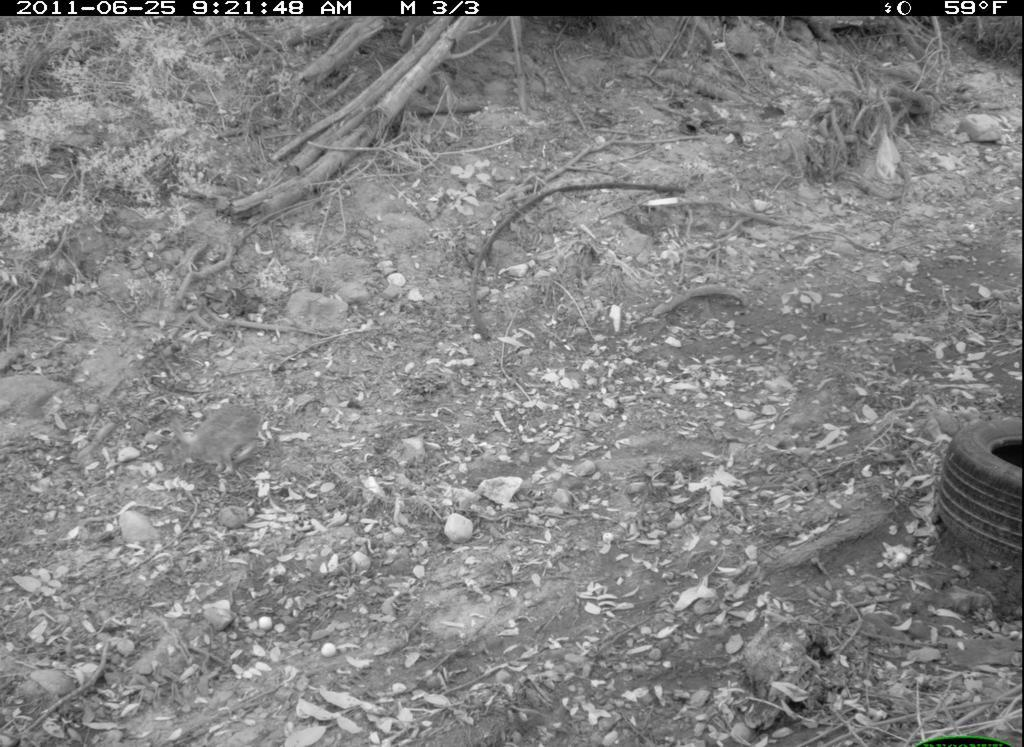rabbit: (168, 396, 271, 491)
